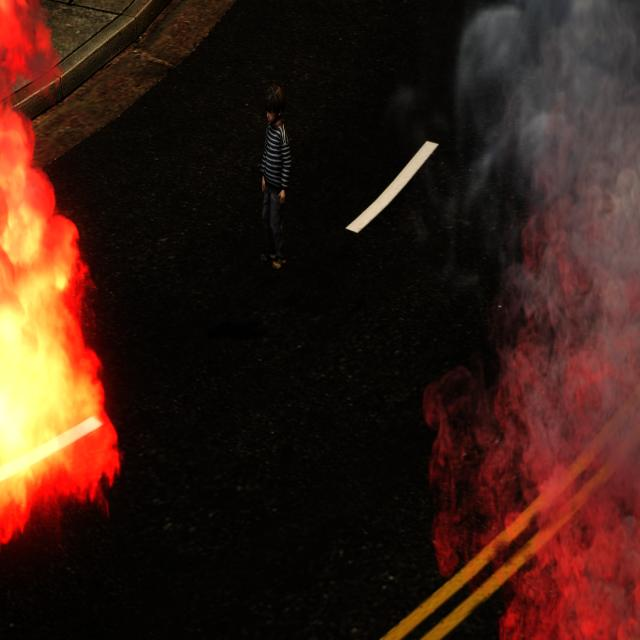Human: (258, 80, 292, 276)
